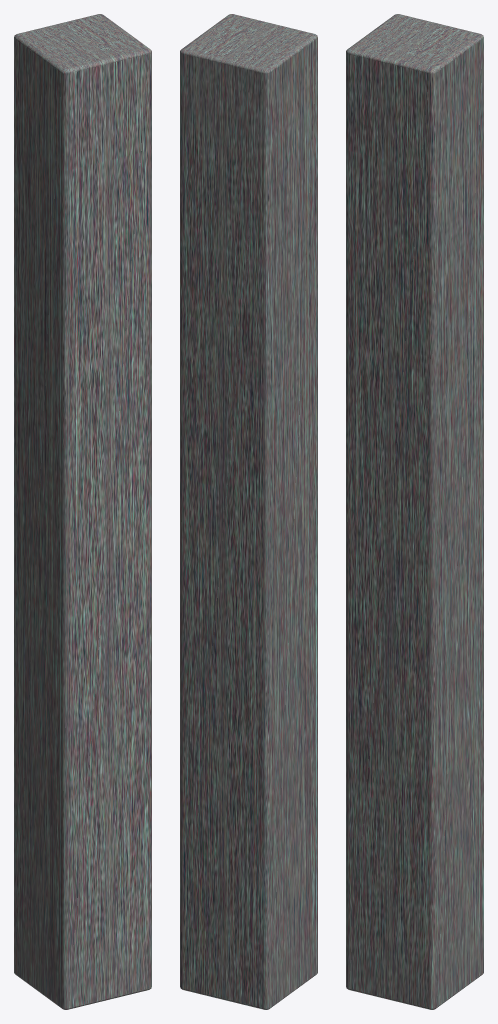
The model's file is Gate.obj.
3 views of the same model, side by side, from view 1: azimuth 30°, elevation 25°; view 2: azimuth 150°, elevation 25°; view 3: azimuth 330°, elevation 25° (orthographic).
Parts seen in each view (by area): view 1: Gate; view 2: Gate; view 3: Gate.
Part boxes in pixels (x1,y1,x2,y2): Gate: [14, 14, 151, 1009]; Gate: [180, 14, 317, 1009]; Gate: [346, 14, 483, 1009].
Size of the model in its own units: 50 by 500 by 50.
1 material, 1 textured.
